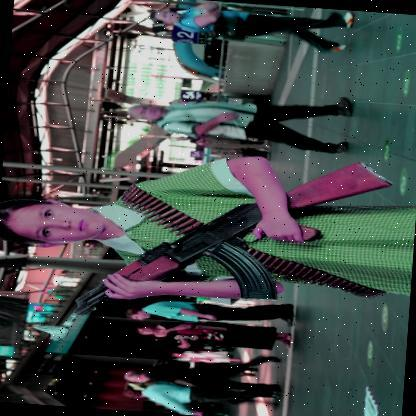rifle: (56, 136, 402, 351)
